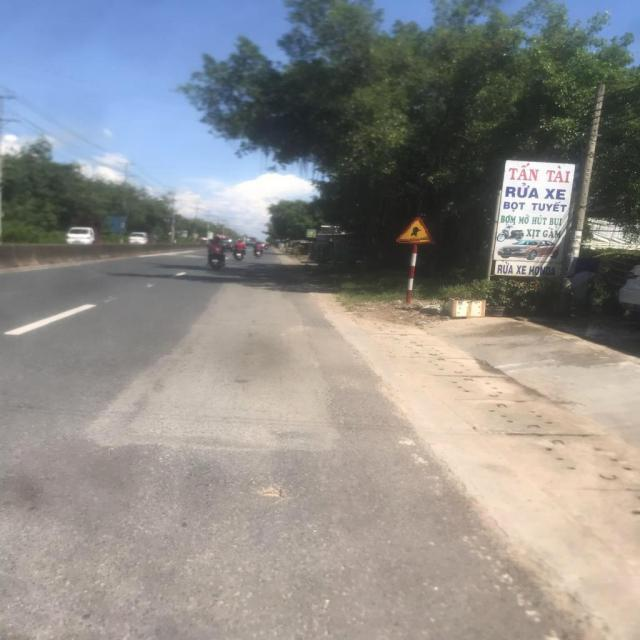207-giao-nhau-voi-duong-khong-uu-tien: (395, 216, 433, 244)
